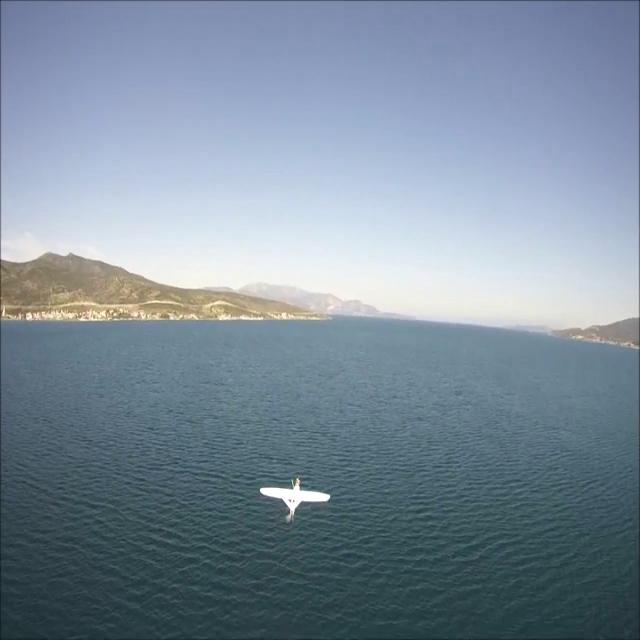iha: (294, 477, 296, 525)
